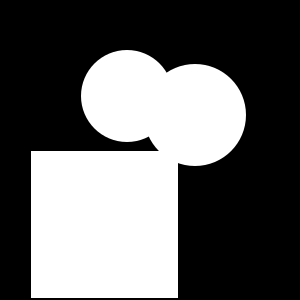circle: (31, 151, 178, 298)
rectangle: (144, 64, 246, 166), (81, 50, 173, 142)
